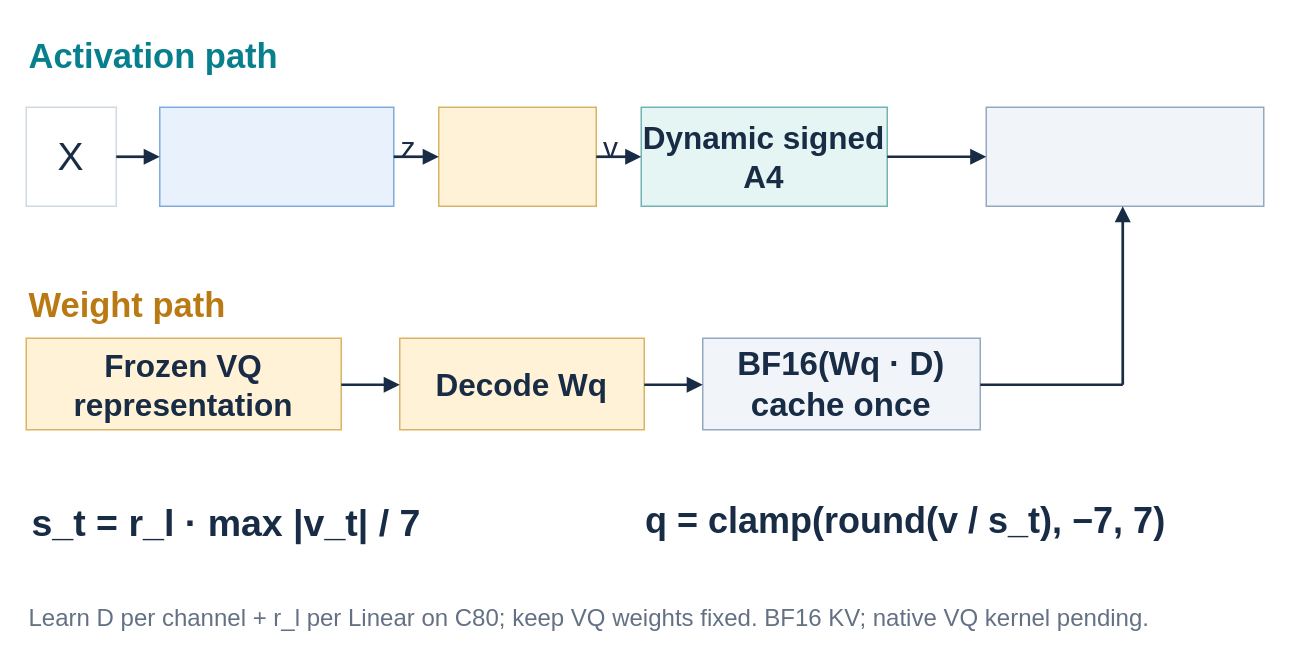
This 1301x668 diagram has some shape labels left out. The centre of each missing label's shape, as x and y in pixels:
BF16 dense Linear: point 1124,156
Smooth 0.5 + H128: point 276,156
÷ D: point 516,156
